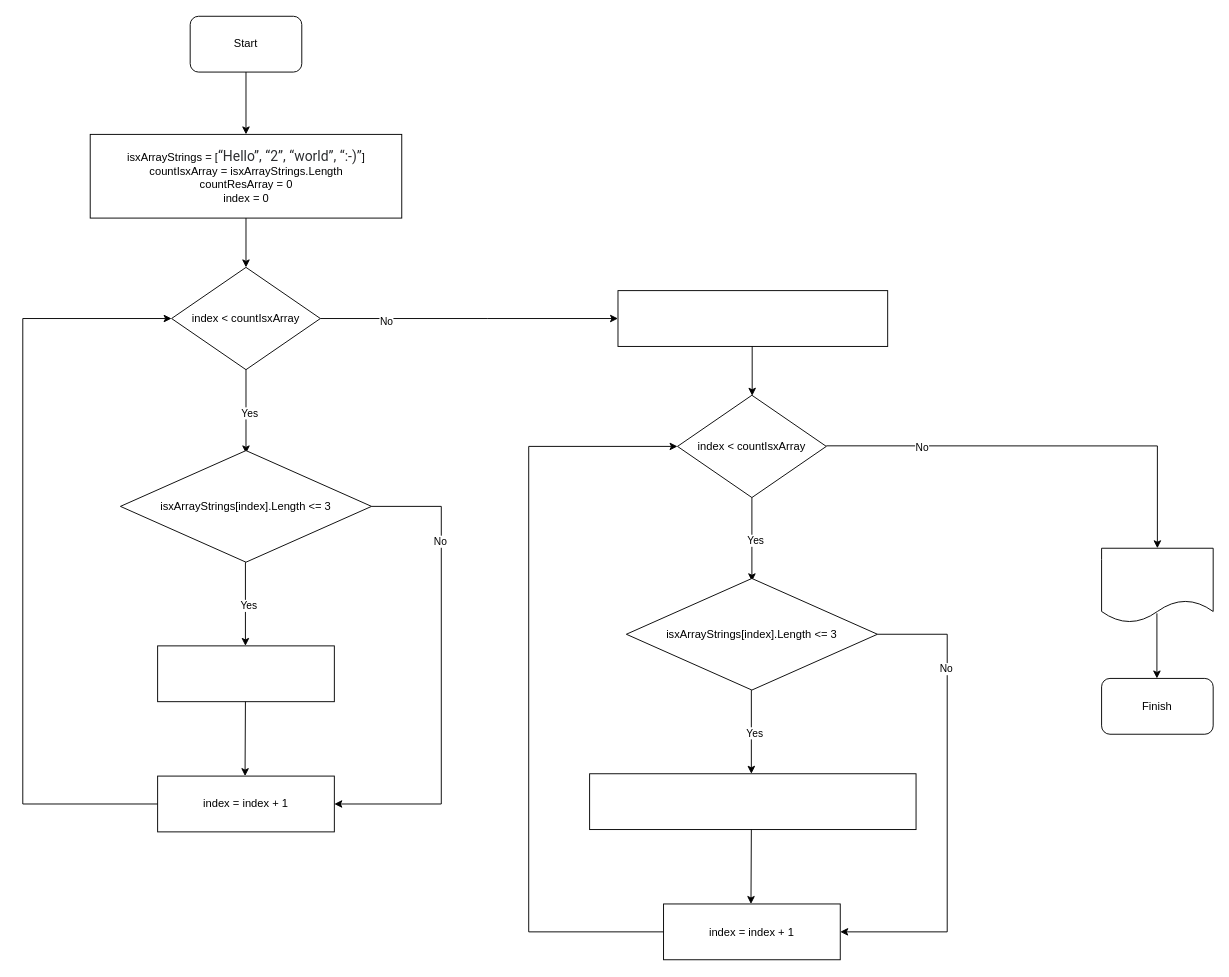
The diagram is 1229 pixels wide and 977 high, and some of its shapes have lost their labels. Here are the shapes that lost their labels. From the top down, the centre of each, then its label:
At (752,318): "indexResArray = 0".
At (1157,585): "isxArrayStrings resArrayStrings".
At (245,673): "countResArray++".
At (752,801): "resArrayStrings[indexResArray] = isxArrayStrings[index] indexResArray++".
